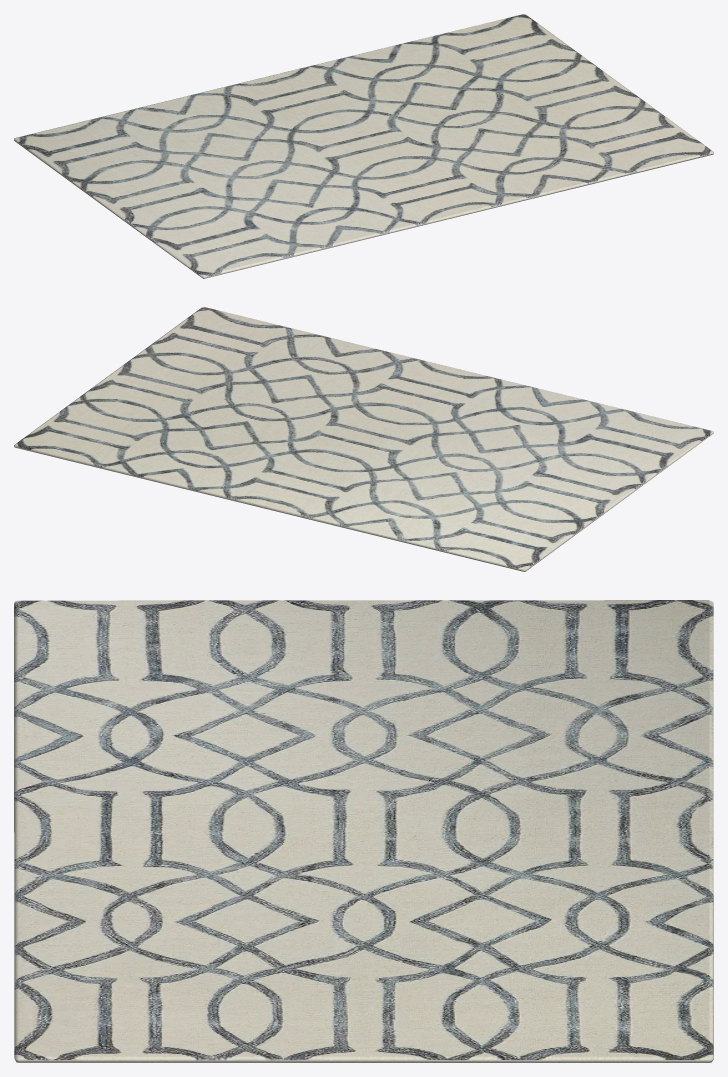
The model's file is abo-B071SHHZVG.glb.
3 views of the same model, one above another, from view 1: azimuth 30°, elevation 25°; view 2: azimuth 150°, elevation 25°; view 3: azimuth 270°, elevation 25° (orthographic). The views are drawn at different scales.
Parts seen in each view (by area): view 1: RootNode; view 2: RootNode; view 3: RootNode.
Boxes of the visible parts, x1=… form: RootNode: x1=14, y1=14, x2=713, y2=278; RootNode: x1=14, y1=307, x2=713, y2=571; RootNode: x1=14, y1=600, x2=713, y2=1062.
Bounding box in the file's own units: 2.36 × 0.0162 × 1.52.
Materials: 1 (1 with a texture image).
